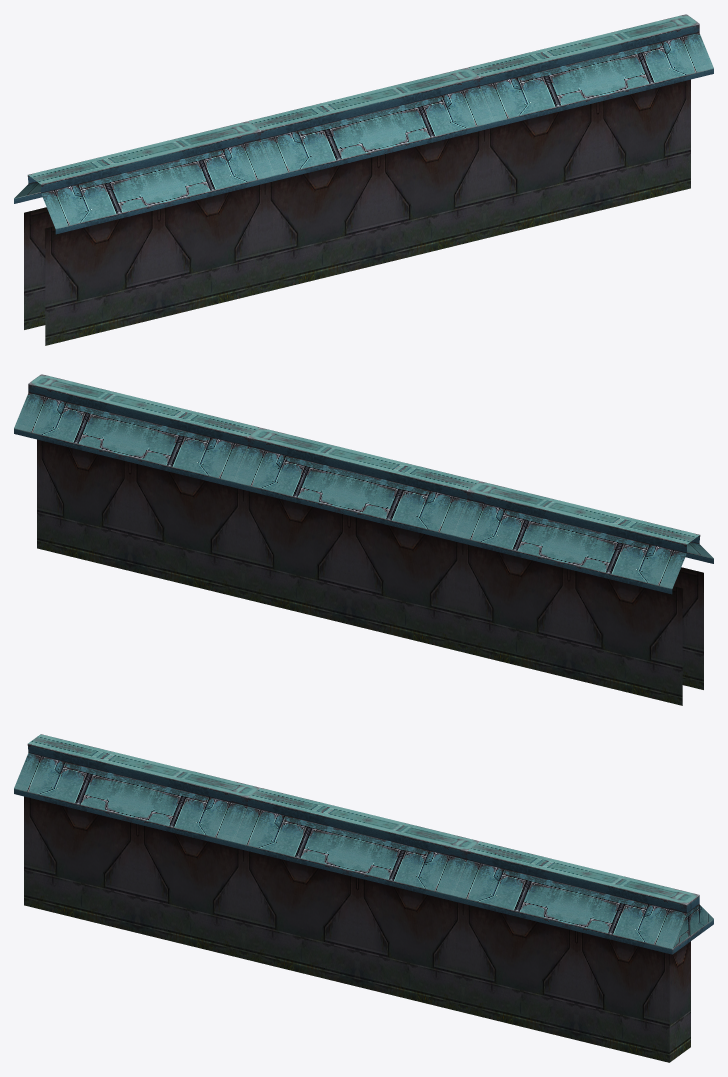
The model's file is yw_huanghunbianjing_qiang01.FBX.
The picture shows the model from 3 angles, top to bottom: view 1: azimuth 30°, elevation 25°; view 2: azimuth 150°, elevation 25°; view 3: azimuth 330°, elevation 25°; orthographic projection.
Parts seen in each view (by area): view 1: yw_huanghunbianjing_qiang01; view 2: yw_huanghunbianjing_qiang01; view 3: yw_huanghunbianjing_qiang01.
Part boxes in pixels (x1,y1,x2,y2): yw_huanghunbianjing_qiang01: (14, 14, 713, 345); yw_huanghunbianjing_qiang01: (14, 374, 713, 705); yw_huanghunbianjing_qiang01: (14, 734, 713, 1062).
Bounding box in the file's own units: 1008 × 232 × 110.
Materials: 1 (1 with a texture image).
